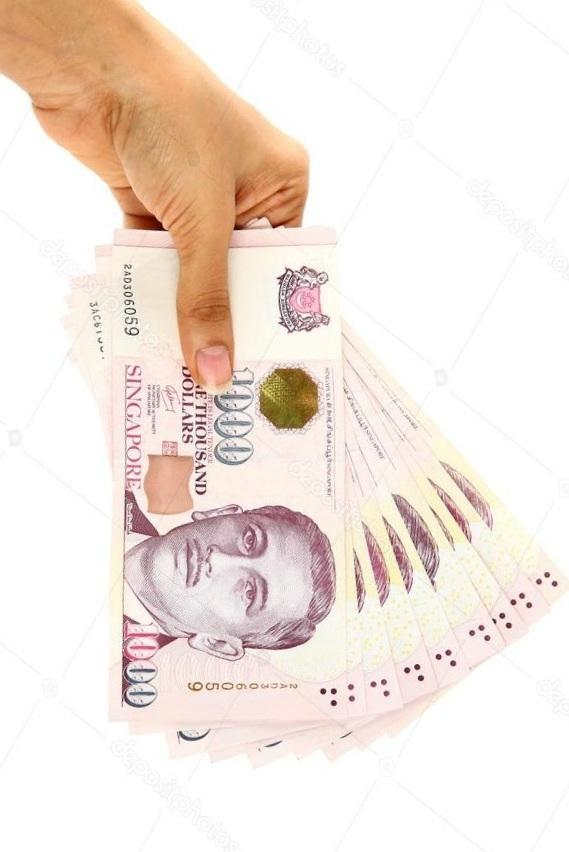1000SingaporeDollar: (118, 236, 335, 718)
